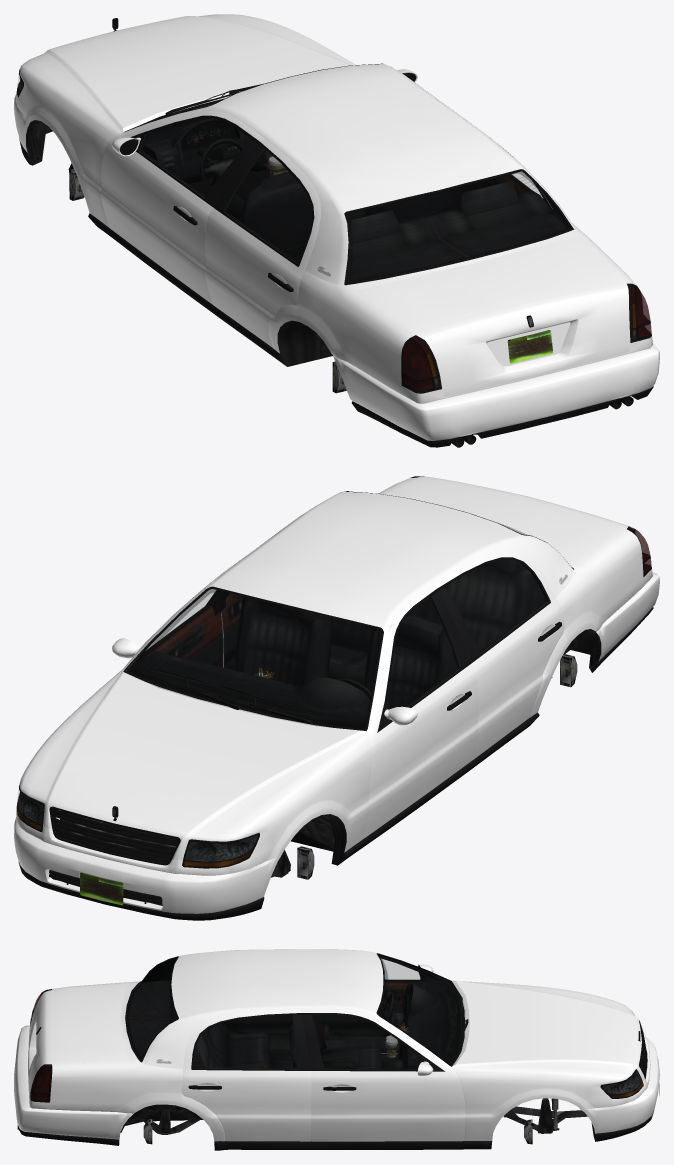
File: washington.glb
3 views of the same model, one above another, from view 1: azimuth 30°, elevation 25°; view 2: azimuth 150°, elevation 25°; view 3: azimuth 270°, elevation 25° (orthographic). The views are drawn at different scales.
Bounding box in the file's own units: 2.1 × 1.23 × 5.43.
11 materials, 10 textured.
